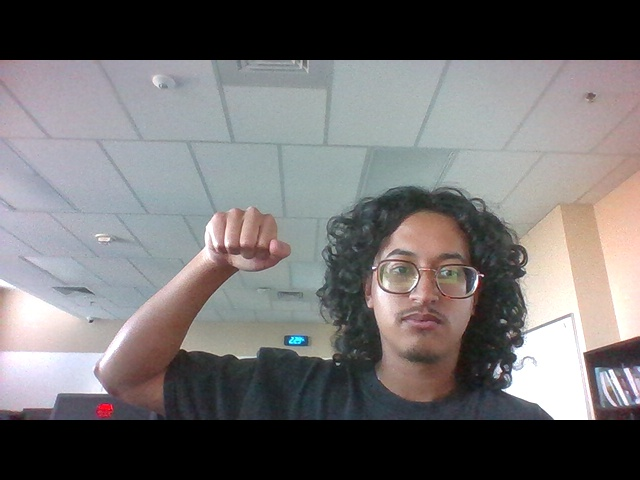yes: (192, 198, 303, 288)
